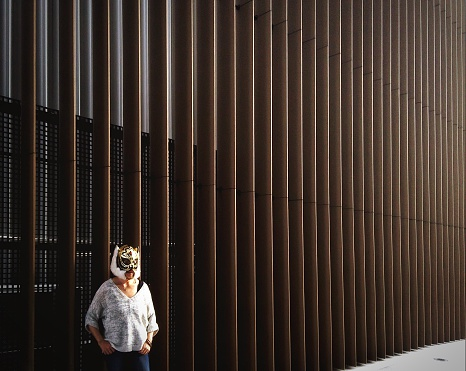em pe: (91, 245, 157, 371)
